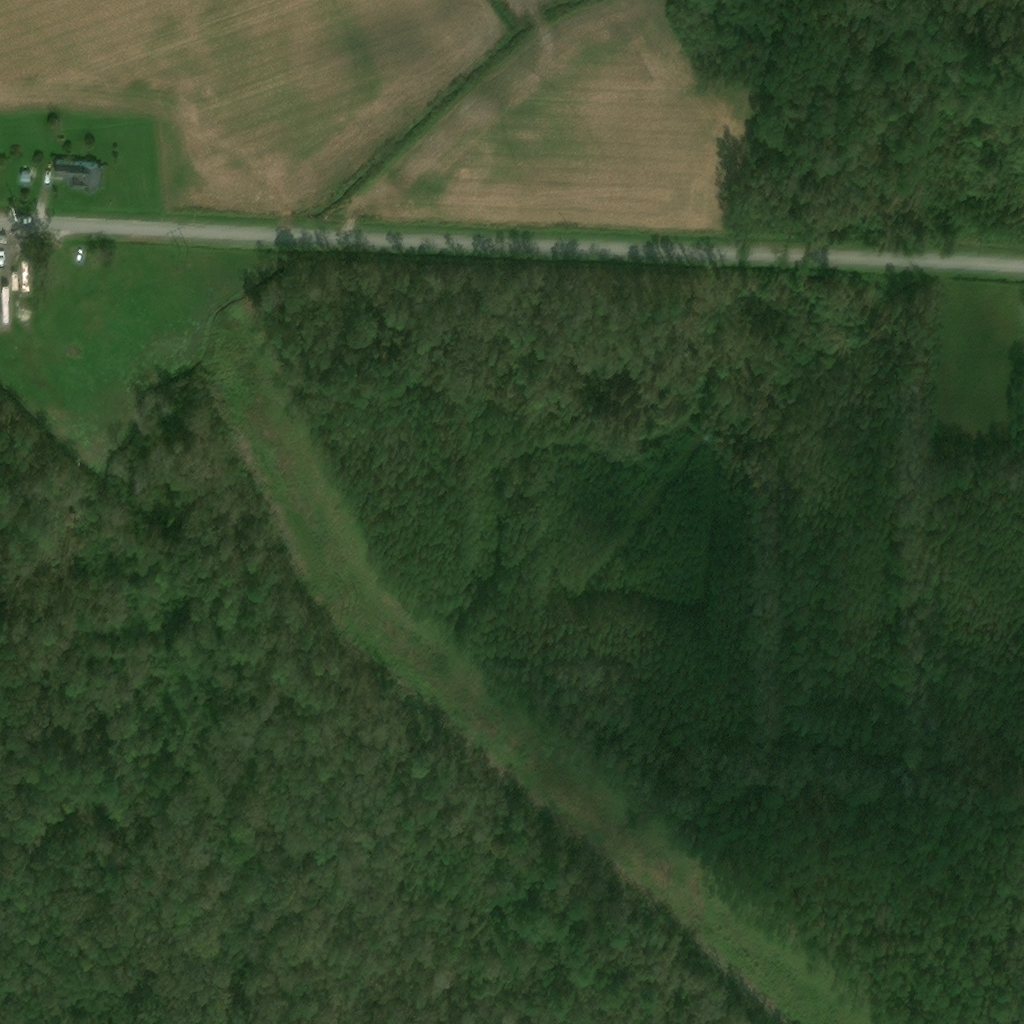no_damage: (50, 163, 104, 191), (0, 287, 12, 340), (21, 260, 31, 292), (19, 174, 34, 185), (12, 273, 20, 291)
unclassified: (87, 263, 96, 286)
